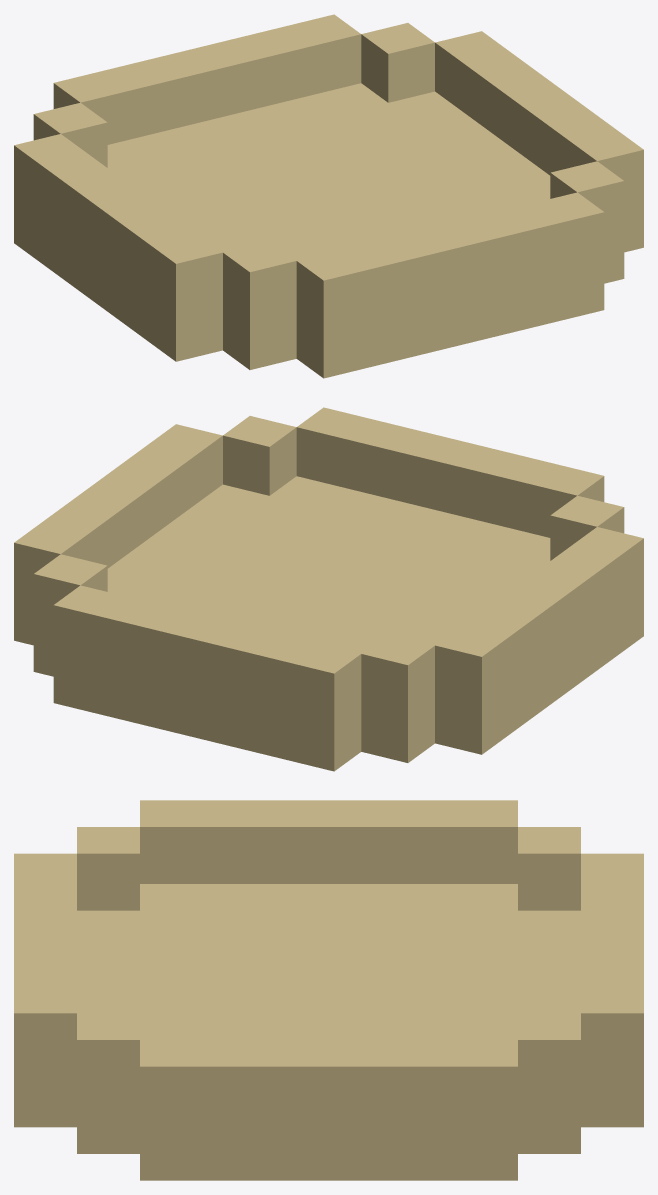
The model's file is pizza_small.obj.
The picture shows the model from 3 angles, top to bottom: view 1: azimuth 30°, elevation 25°; view 2: azimuth 150°, elevation 25°; view 3: azimuth 270°, elevation 25°; orthographic projection. The views are drawn at different scales.
Size of the model in its own units: 1 by 0.2 by 1.
Materials: 1 (1 with a texture image).
